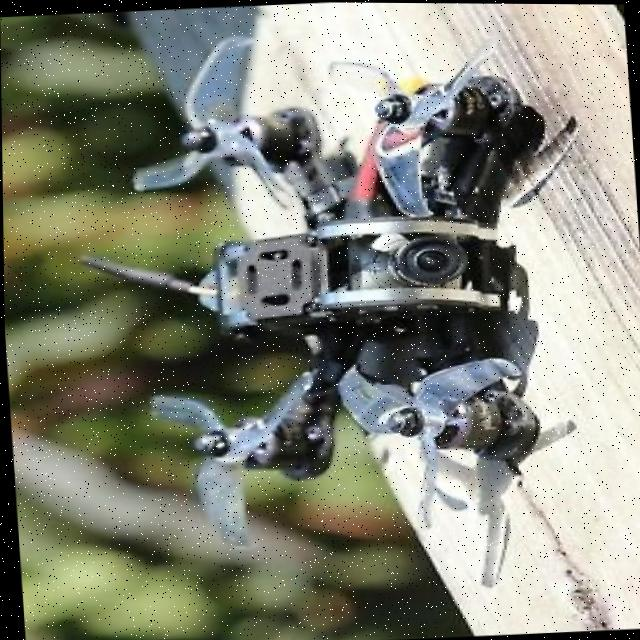drones: (67, 17, 585, 553)
